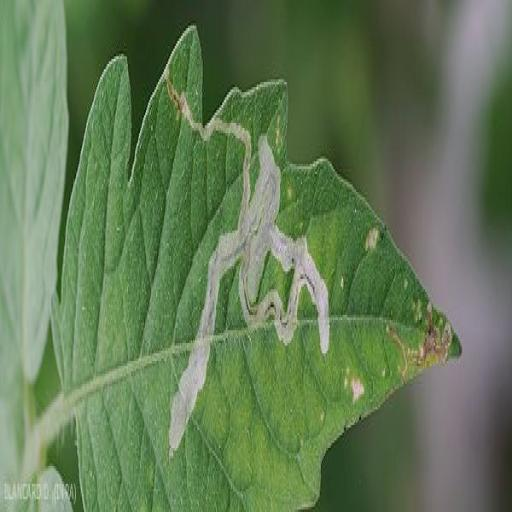disease_tomato: (54, 24, 464, 512)
